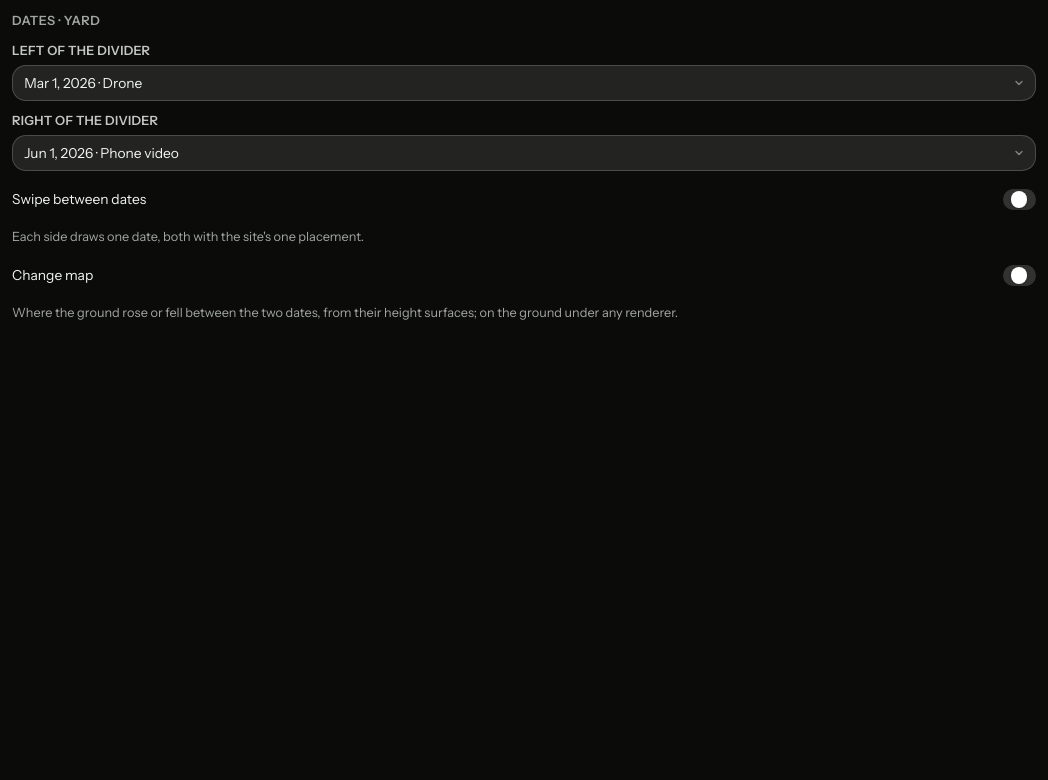
Test: the drape and its legend › labels a visual pair with its reference date and measured fit
Click the switch named "Change map" in the row of "Change map". click: [1019, 276]
box: [1003, 265, 1036, 286]
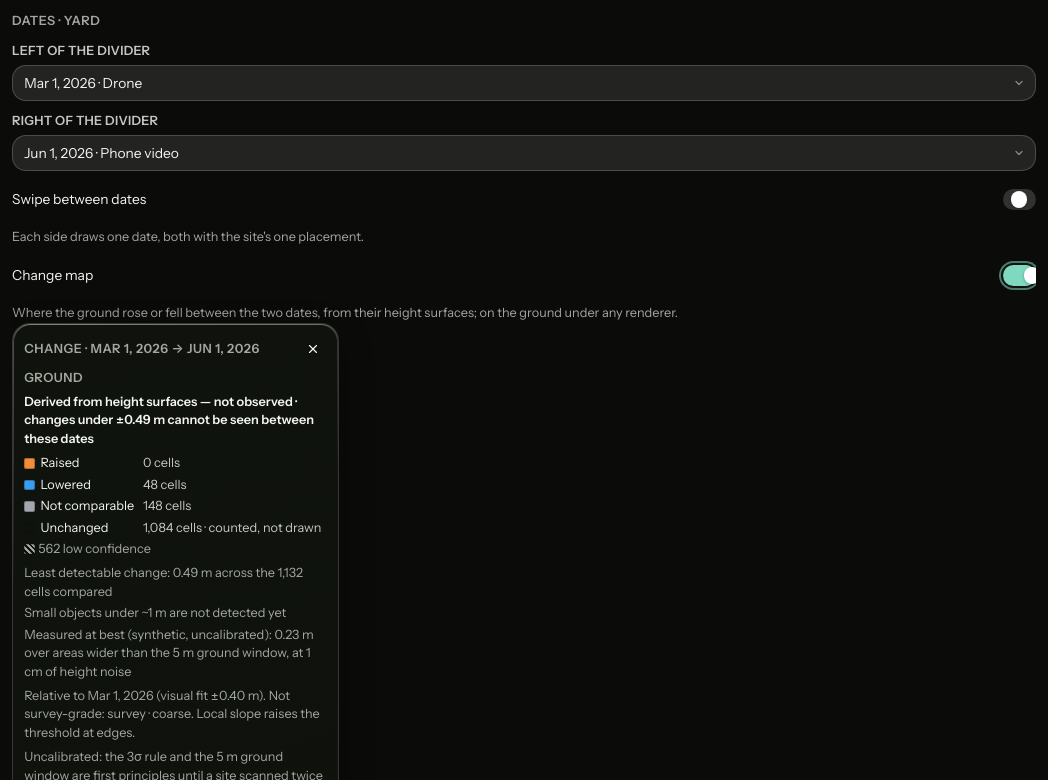
Now the element with test id "change-drape" is shown, box [12, 323, 339, 779]
Now the text with test id "change-drape-placement" reads "Relative to Mar 1, 2026 (visual fit ±0.40 m). Not survey-grade: survey · coarse.", box [24, 688, 320, 740]
Now the text with test id "change-drape-placement" shows "Local slope raises the threshold at edges.", box [24, 688, 320, 740]
